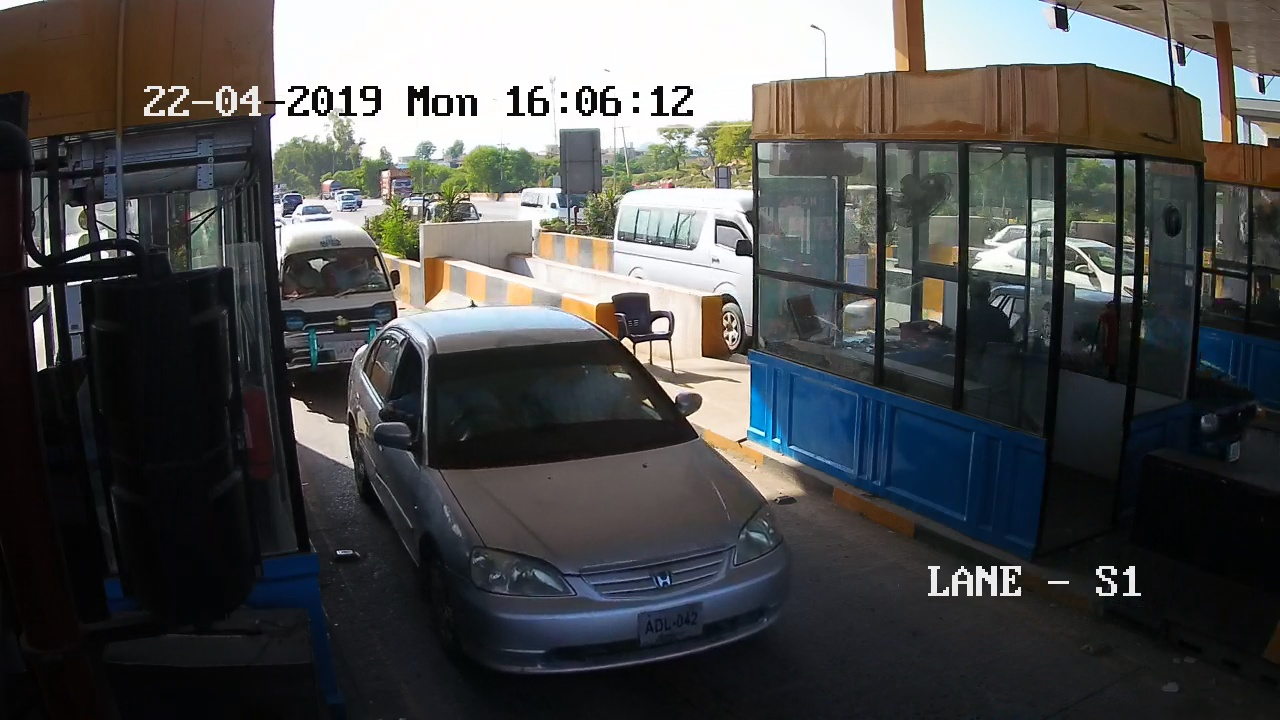Number Plate (Car): (638, 606, 702, 642), (330, 345, 358, 360)
